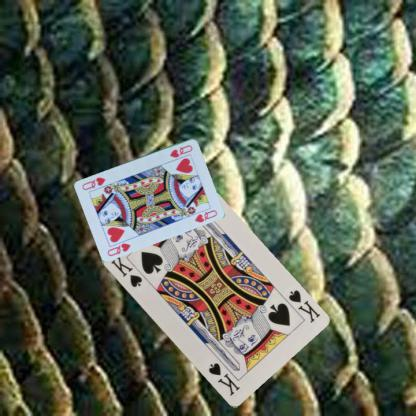Ks: (107, 251, 144, 289), (286, 287, 322, 325)
Qh: (104, 240, 132, 257), (167, 142, 194, 159)
